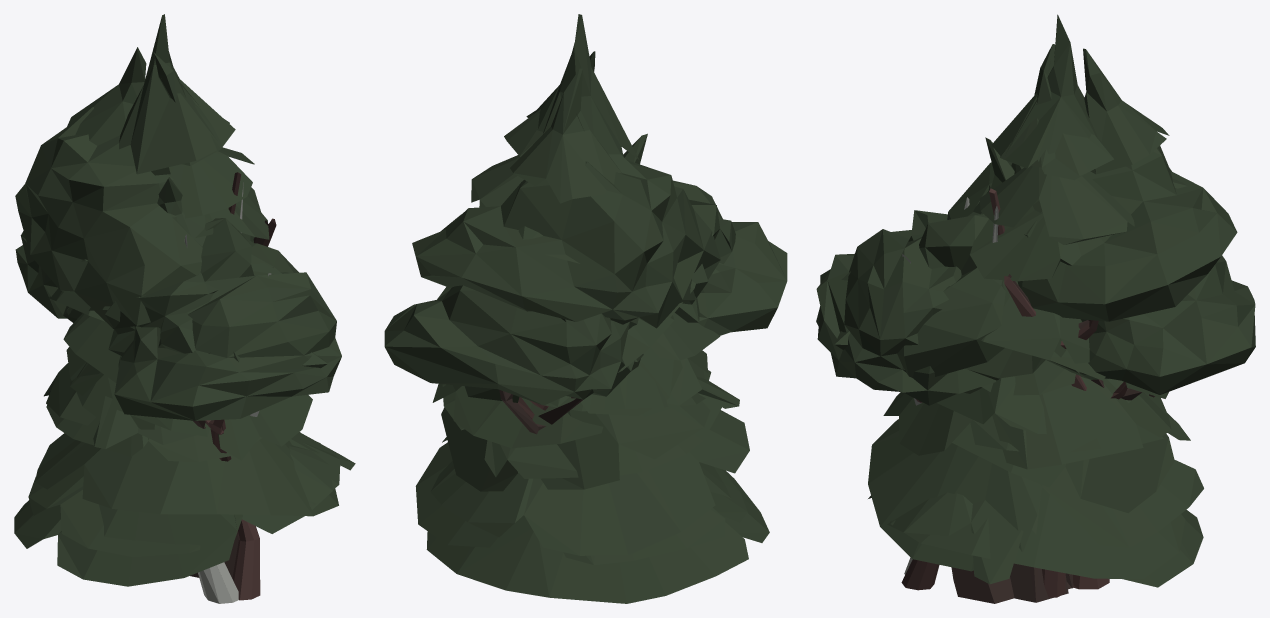
Rendered from nature_lod.glb.
3 views of the same model, side by side, from view 1: azimuth 30°, elevation 25°; view 2: azimuth 150°, elevation 25°; view 3: azimuth 270°, elevation 25° (orthographic). The views are drawn at different scales.
Parts seen in each view (by area): view 1: CommonTree_2, PineTree_2, CommonTree_1, PineTree_3, PineTree_1, PineTree_4, PineTree_5, Willow_Dead_1, BirchTree_Dead_1; view 2: CommonTree_2, PineTree_3, PineTree_2, CommonTree_1, PineTree_1, PineTree_5, PineTree_4; view 3: PineTree_2, CommonTree_2, CommonTree_1, PineTree_3, PineTree_4, PineTree_1, PineTree_5, CommonTree_Dead_2, Willow_Dead_1, CommonTree_Dead_3.
Boxes of the visible parts, box(x1,y1,x2,y2) form: CommonTree_2: box(15, 107, 327, 368); PineTree_2: box(35, 14, 338, 516); CommonTree_1: box(15, 231, 341, 428); PineTree_3: box(14, 47, 355, 586); PineTree_1: box(28, 362, 340, 556); PineTree_4: box(66, 52, 269, 577); PineTree_5: box(63, 177, 206, 429); Willow_Dead_1: box(210, 419, 260, 600); BirchTree_Dead_1: box(198, 273, 271, 603); CommonTree_2: box(412, 154, 735, 328); PineTree_3: box(426, 68, 769, 603); PineTree_2: box(430, 14, 749, 555); CommonTree_1: box(384, 180, 787, 434); PineTree_1: box(415, 347, 747, 564); PineTree_5: box(540, 133, 720, 411); PineTree_4: box(471, 51, 695, 361); PineTree_2: box(868, 14, 1203, 602); CommonTree_2: box(834, 145, 1237, 377); CommonTree_1: box(816, 229, 1255, 405); PineTree_3: box(868, 48, 1203, 589); PineTree_4: box(951, 44, 1134, 603); PineTree_1: box(890, 360, 1190, 588); PineTree_5: box(936, 137, 1132, 434); CommonTree_Dead_2: box(1004, 276, 1109, 589); Willow_Dead_1: box(901, 559, 938, 590); CommonTree_Dead_3: box(989, 188, 1065, 597).
Size of the model in its own units: 9.91 by 16.4 by 11.65.
